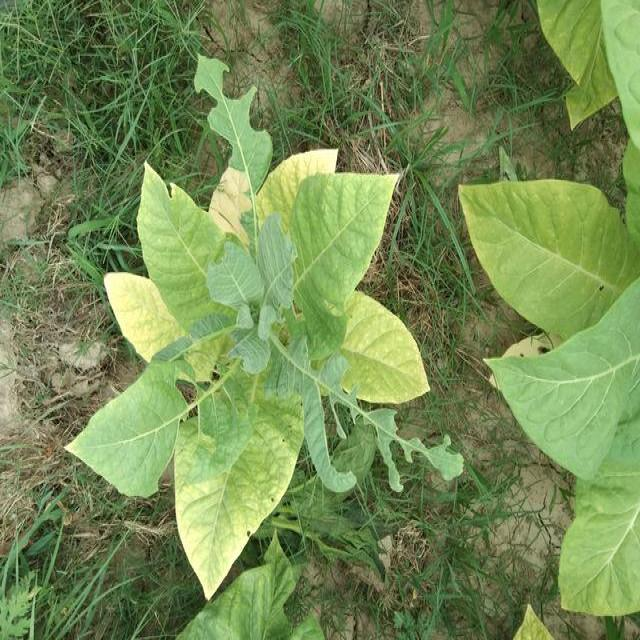crop: (58, 47, 432, 605)
